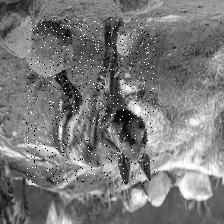hyena: (27, 18, 157, 184)
